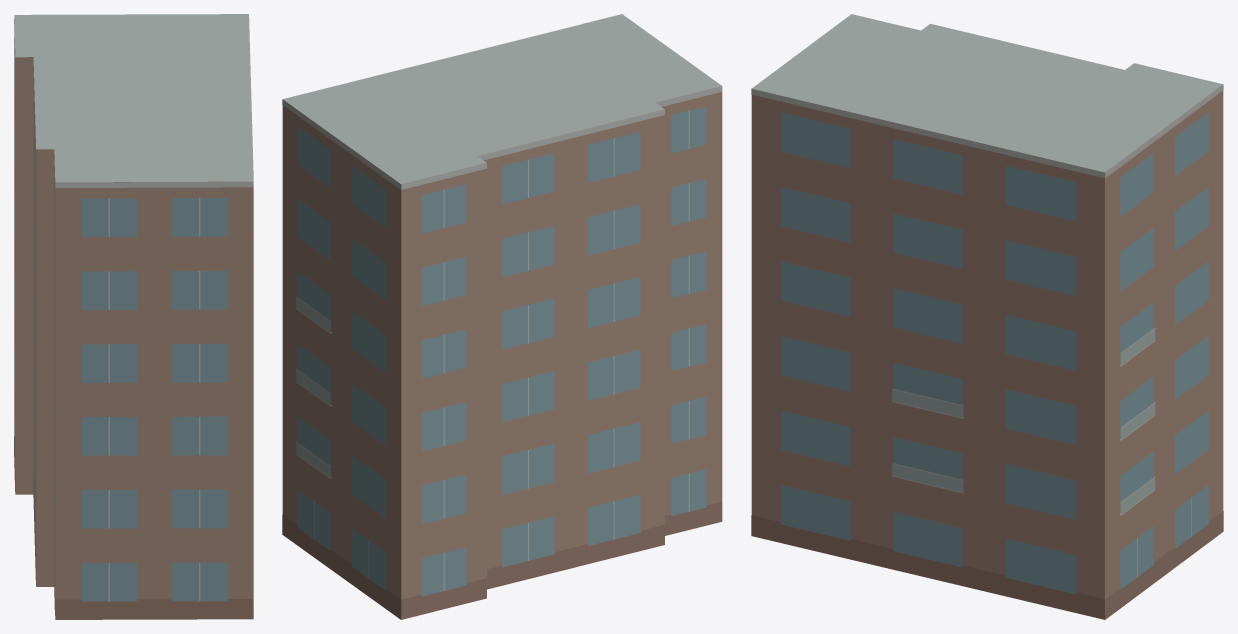
The model's file is survey-upis-33004929.glb.
3 views of the same model, side by side, from view 1: azimuth 30°, elevation 25°; view 2: azimuth 150°, elevation 25°; view 3: azimuth 270°, elevation 25° (orthographic). The views are drawn at different scales.
Visible parts, largest first — view 1: survey-upis-33004929.tmp; view 2: survey-upis-33004929.tmp; view 3: survey-upis-33004929.tmp.
Boxes of the visible parts, <box> form: survey-upis-33004929.tmp: <box>14,14,253,619</box>; survey-upis-33004929.tmp: <box>282,14,722,619</box>; survey-upis-33004929.tmp: <box>751,14,1223,619</box>.
Bounding box in the file's own units: 14.15 × 18.6 × 17.79.
